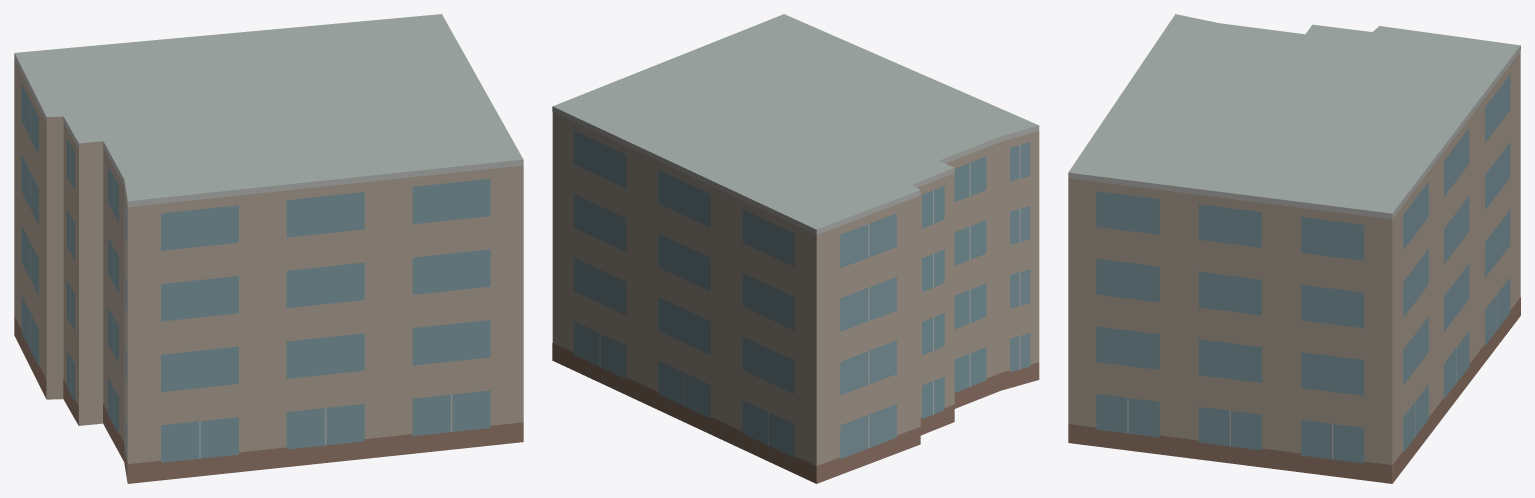
The model's file is survey-upis-32656406.glb.
The picture shows the model from 3 angles, left to right: view 1: azimuth 30°, elevation 25°; view 2: azimuth 150°, elevation 25°; view 3: azimuth 270°, elevation 25°; orthographic projection. The views are drawn at different scales.
Visible parts, largest first — view 1: survey-upis-32656406.tmp; view 2: survey-upis-32656406.tmp; view 3: survey-upis-32656406.tmp.
Part boxes in pixels (x1,y1,x2,y2): survey-upis-32656406.tmp: (14,14,523,483); survey-upis-32656406.tmp: (552,14,1039,483); survey-upis-32656406.tmp: (1068,14,1520,483).
Bounding box in the file's own units: 18.38 × 11.6 × 17.61.
